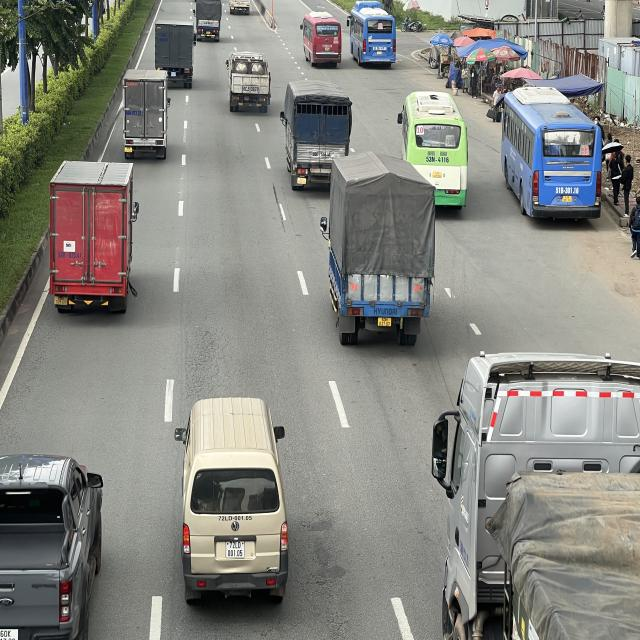car: (1, 452, 104, 638)
coach: (496, 83, 603, 222), (396, 93, 470, 212), (347, 1, 397, 68), (301, 10, 342, 66)
container: (430, 352, 640, 636)
truck: (320, 152, 440, 350), (46, 162, 138, 314), (282, 86, 352, 192), (122, 72, 172, 162), (153, 18, 195, 89), (227, 51, 273, 114), (194, 0, 224, 41)
van: (176, 396, 289, 607)
